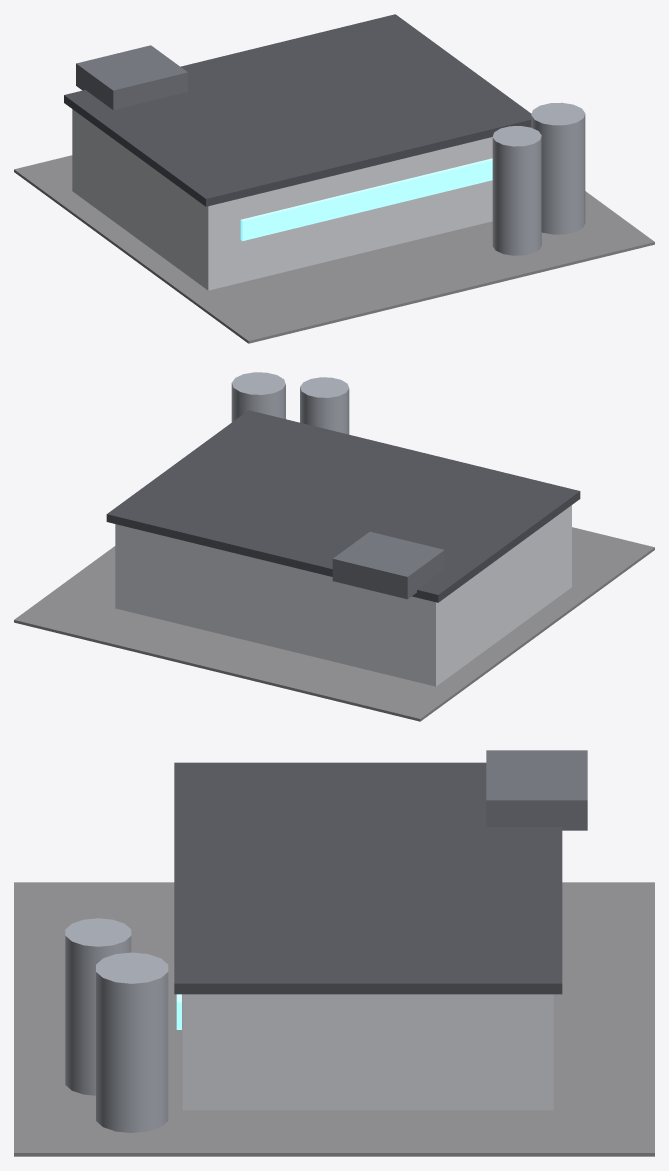
Rendered from chip_fab.glb.
The picture shows the model from 3 angles, top to bottom: view 1: azimuth 30°, elevation 25°; view 2: azimuth 150°, elevation 25°; view 3: azimuth 270°, elevation 25°; orthographic projection. The views are drawn at different scales.
Visible parts, largest first — view 1: Roof, Cleanroom, Pad, Tank2, Tank1, Glow, Plant; view 2: Roof, Cleanroom, Pad, Plant, Tank2, Tank1; view 3: Roof, Pad, Cleanroom, Tank1, Plant, Tank2.
Boxes of the visible parts, bbox=[...] form: Roof: bbox=[64, 14, 531, 206]; Cleanroom: bbox=[72, 109, 492, 290]; Pad: bbox=[14, 155, 654, 343]; Tank2: bbox=[492, 126, 541, 255]; Tank1: bbox=[531, 102, 585, 234]; Glow: bbox=[240, 158, 492, 241]; Plant: bbox=[76, 45, 187, 109]; Roof: bbox=[106, 410, 580, 602]; Cleanroom: bbox=[115, 505, 571, 686]; Pad: bbox=[14, 527, 654, 721]; Plant: bbox=[332, 531, 444, 599]; Tank2: bbox=[300, 377, 349, 434]; Tank1: bbox=[231, 372, 285, 422]; Roof: bbox=[174, 762, 562, 994]; Pad: bbox=[14, 882, 654, 1156]; Cleanroom: bbox=[182, 994, 553, 1110]; Tank1: bbox=[96, 952, 168, 1132]; Plant: bbox=[486, 750, 587, 830]; Tank2: bbox=[65, 918, 131, 1095].
Size of the model in its own units: 3.8 by 1.05 by 3.8.
